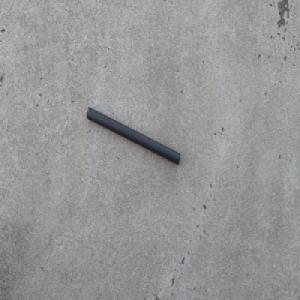LuggagePart: (86, 105, 180, 165)
